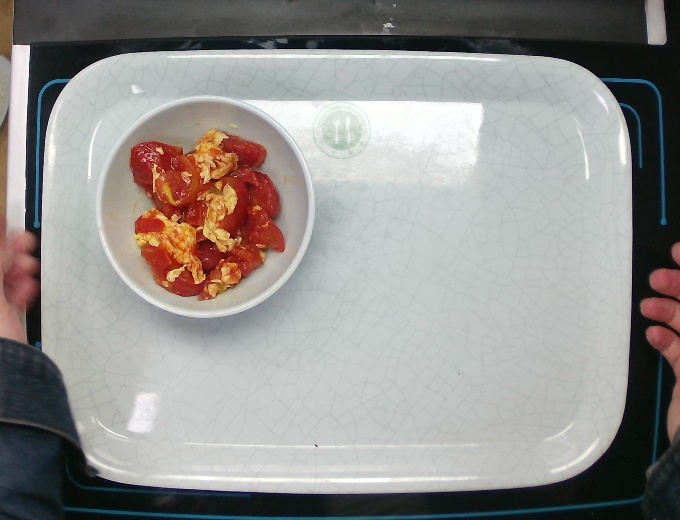JYsf-Fan_Wan: (92, 90, 319, 324)
